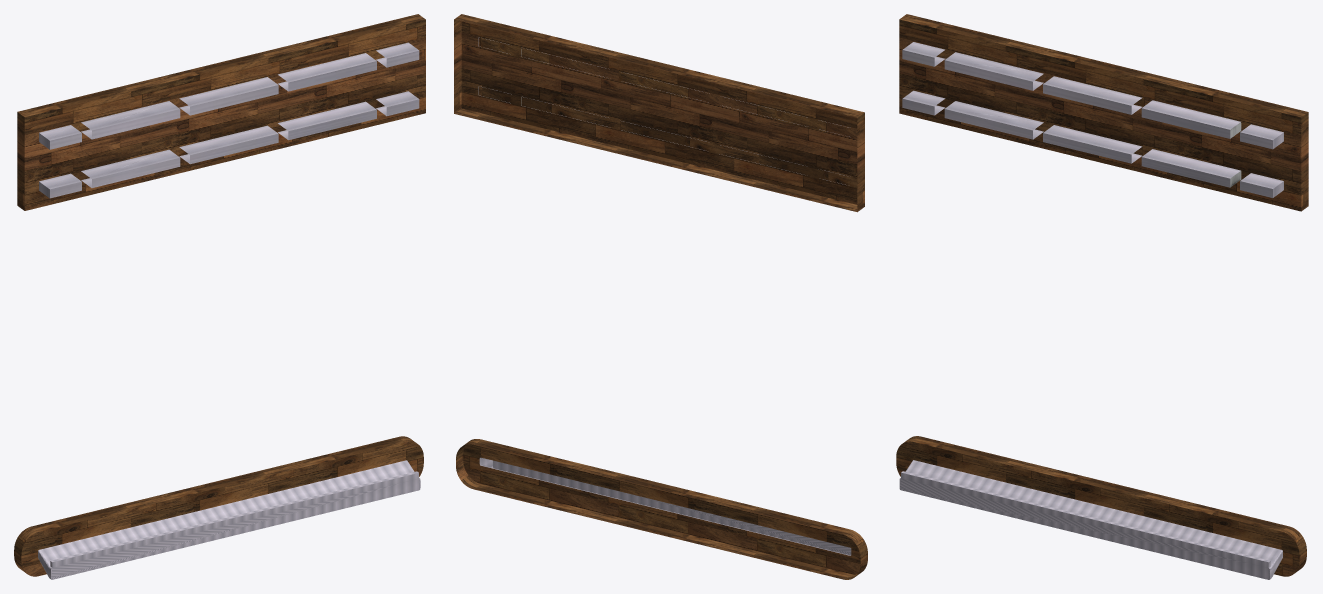
File: CueRack.fbx
3 renders of one model, left to right at view 1: azimuth 30°, elevation 25°; view 2: azimuth 150°, elevation 25°; view 3: azimuth 330°, elevation 25°, orthographic.
Parts seen in each view (by area): view 1: Empty_Mesh; view 2: Empty_Mesh; view 3: Empty_Mesh.
Part boxes in pixels (x1=…): Empty_Mesh: x1=14, y1=14, x2=425, y2=579; Empty_Mesh: x1=454, y1=14, x2=867, y2=579; Empty_Mesh: x1=896, y1=14, x2=1308, y2=579.
Bounding box in the file's own units: 103 × 112 × 8.99.
